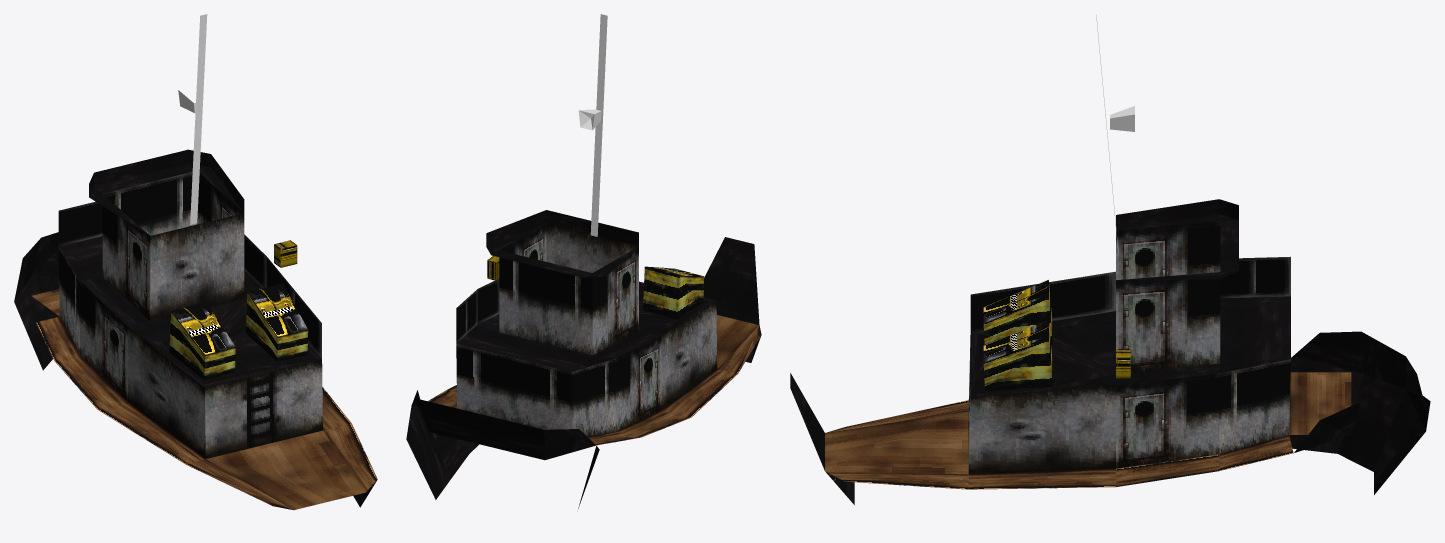
The picture shows the model from 3 angles, left to right: view 1: azimuth 30°, elevation 25°; view 2: azimuth 150°, elevation 25°; view 3: azimuth 270°, elevation 25°; orthographic projection. The views are drawn at different scales.
Parts seen in each view (by area): view 1: prim114-Box01; view 2: prim114-Box01; view 3: prim114-Box01.
Boxes of the visible parts, box(x1,y1,x2,y2) form: prim114-Box01: box(14, 14, 377, 510); prim114-Box01: box(406, 14, 761, 508); prim114-Box01: box(790, 15, 1430, 504).
Bounding box in the file's own units: 515 × 1023 × 1276.
14 materials, 10 textured.
